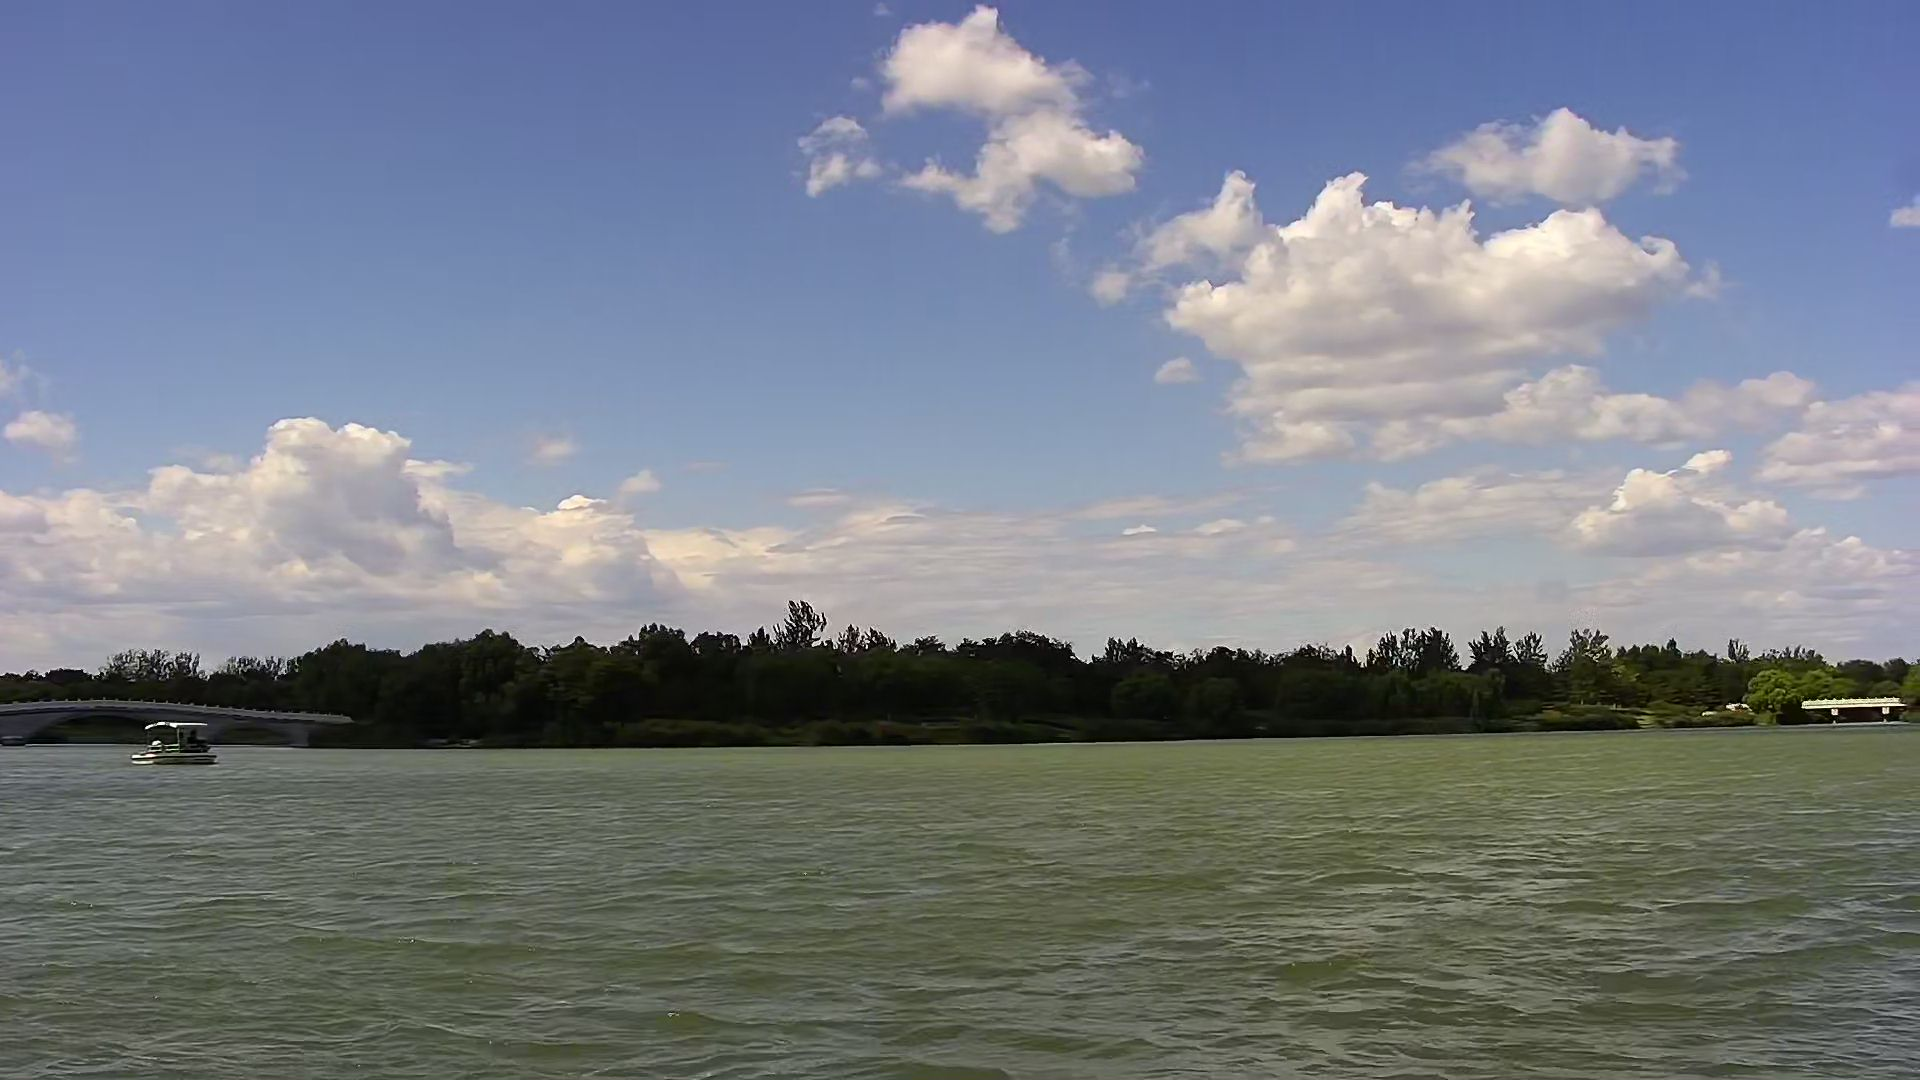boat: (132, 716, 222, 767)
bridge: (1, 694, 351, 756), (1795, 690, 1912, 728)
